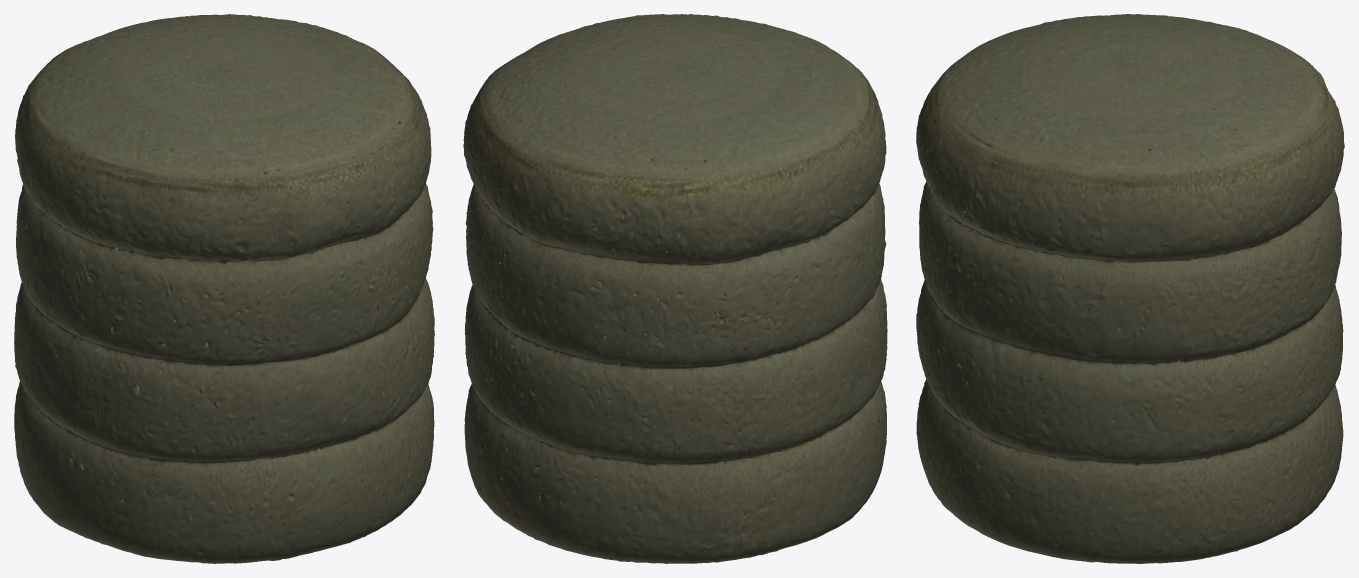
File: floor-cushion-green-boucle-stack.glb
3 renders of one model, left to right at view 1: azimuth 30°, elevation 25°; view 2: azimuth 150°, elevation 25°; view 3: azimuth 270°, elevation 25°, orthographic.
Visible parts, largest first — view 1: world; view 2: world; view 3: world.
Part boxes in pixels (bbox=[...]): world: bbox=[14, 14, 434, 563]; world: bbox=[463, 14, 887, 563]; world: bbox=[916, 14, 1344, 563].
Bounding box in the file's own units: 0.9016 × 0.9989 × 0.9196.
1 material, 1 textured.
